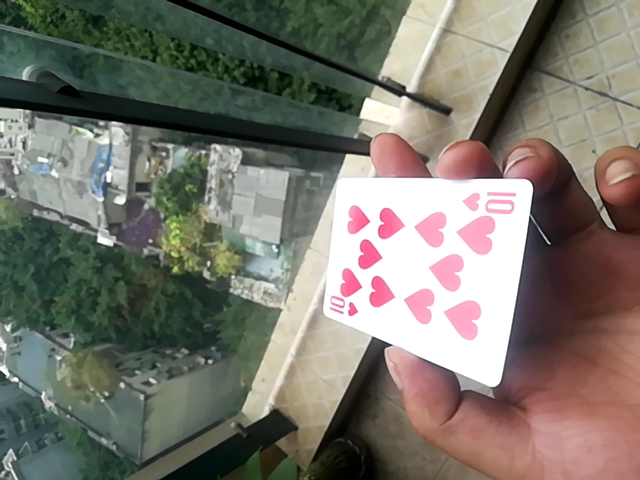hx 10: (321, 172, 523, 386)
